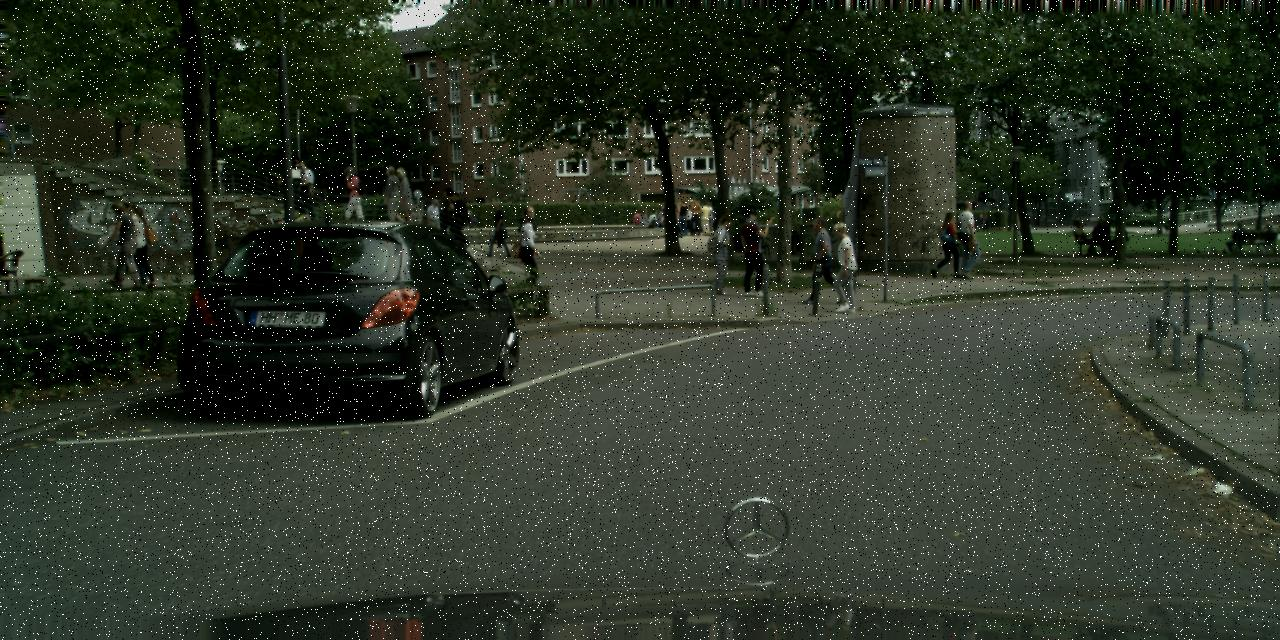ped: (826, 222, 862, 312), (803, 216, 839, 303), (106, 201, 142, 286), (735, 210, 770, 296), (110, 198, 144, 282), (705, 213, 739, 295), (513, 205, 546, 286), (117, 204, 149, 284), (951, 200, 982, 279), (276, 145, 304, 214), (437, 186, 463, 252), (934, 212, 960, 278), (381, 166, 406, 226), (339, 166, 363, 226), (391, 167, 415, 226), (484, 199, 507, 257), (293, 161, 316, 218), (446, 192, 468, 249), (426, 198, 444, 243), (697, 198, 712, 236), (688, 198, 702, 234), (703, 201, 716, 233), (677, 200, 690, 232), (1091, 218, 1111, 236), (464, 210, 476, 239), (1164, 204, 1176, 233), (656, 205, 664, 228), (981, 214, 990, 234), (976, 214, 984, 234), (687, 210, 691, 232), (1100, 247, 1108, 254), (686, 201, 692, 209), (694, 222, 698, 232), (696, 200, 701, 204), (676, 204, 680, 208), (1096, 248, 1098, 256), (677, 212, 678, 222), (702, 230, 702, 232)
